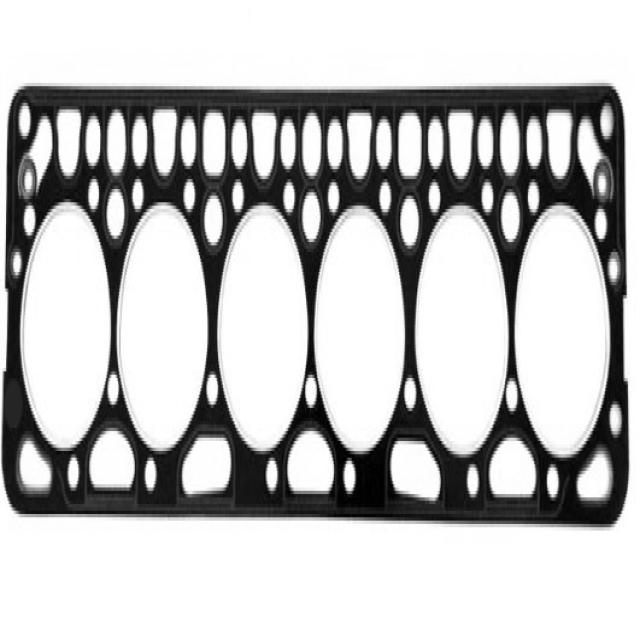missing hole: (2, 371, 30, 461)
